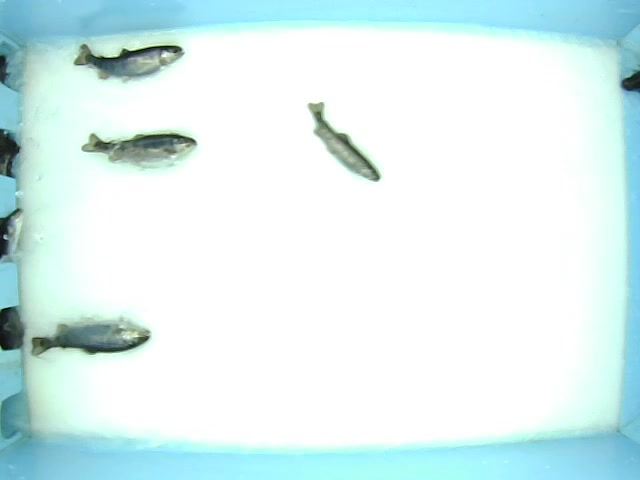fish: (24, 300, 158, 385), (306, 94, 386, 186), (74, 126, 212, 178), (67, 37, 206, 85)
